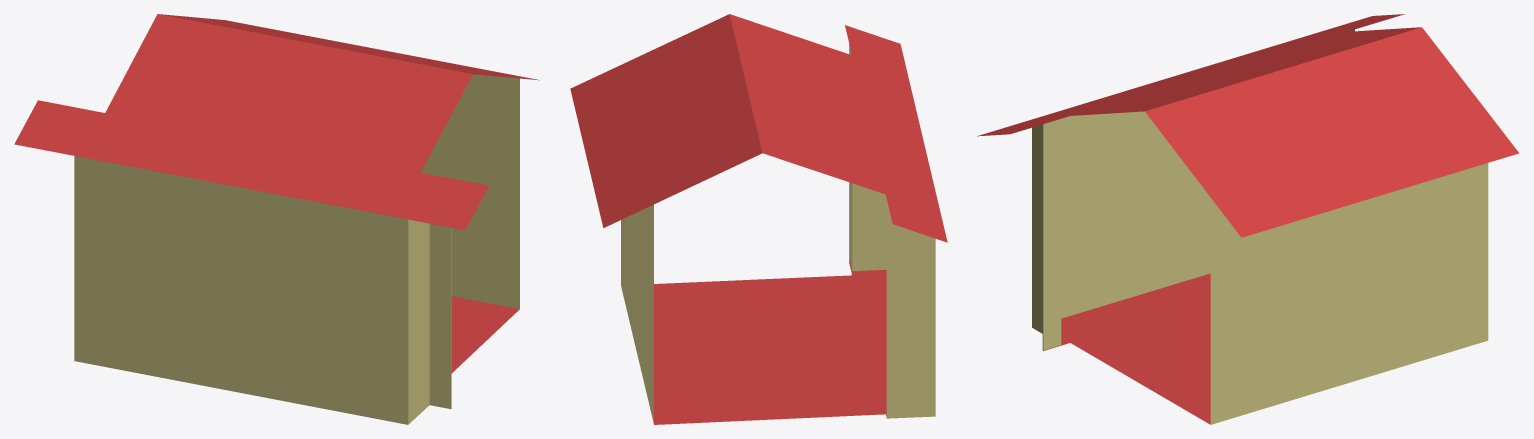
The picture shows the model from 3 angles, left to right: view 1: azimuth 30°, elevation 25°; view 2: azimuth 150°, elevation 25°; view 3: azimuth 270°, elevation 25°; orthographic projection. The views are drawn at different scales.
Bounding box in the file's own units: 12.2 × 12.62 × 7.05.
